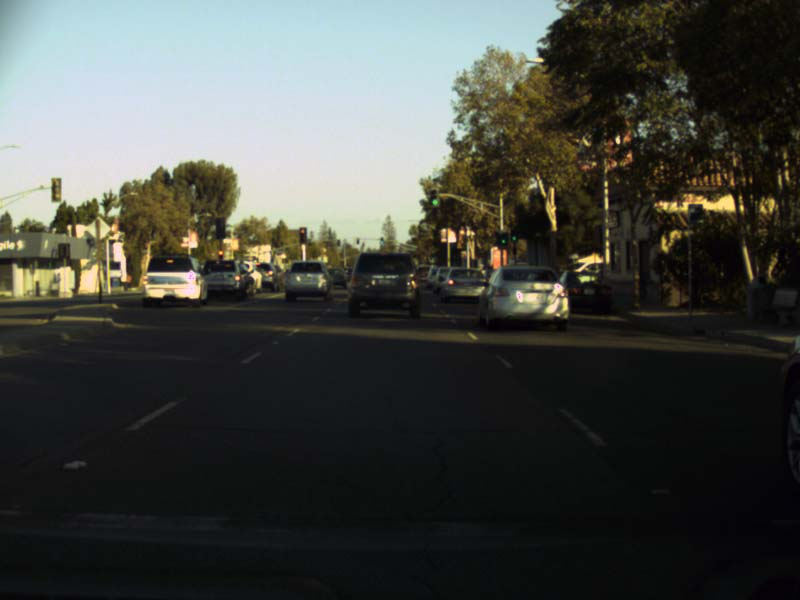Green: (429, 189, 438, 207), (510, 225, 517, 241), (498, 234, 507, 245), (380, 237, 383, 244)
Red: (298, 227, 306, 243), (217, 249, 222, 263)
